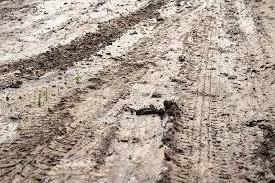vehicle_track: (0, 0, 244, 183), (0, 0, 172, 95)
